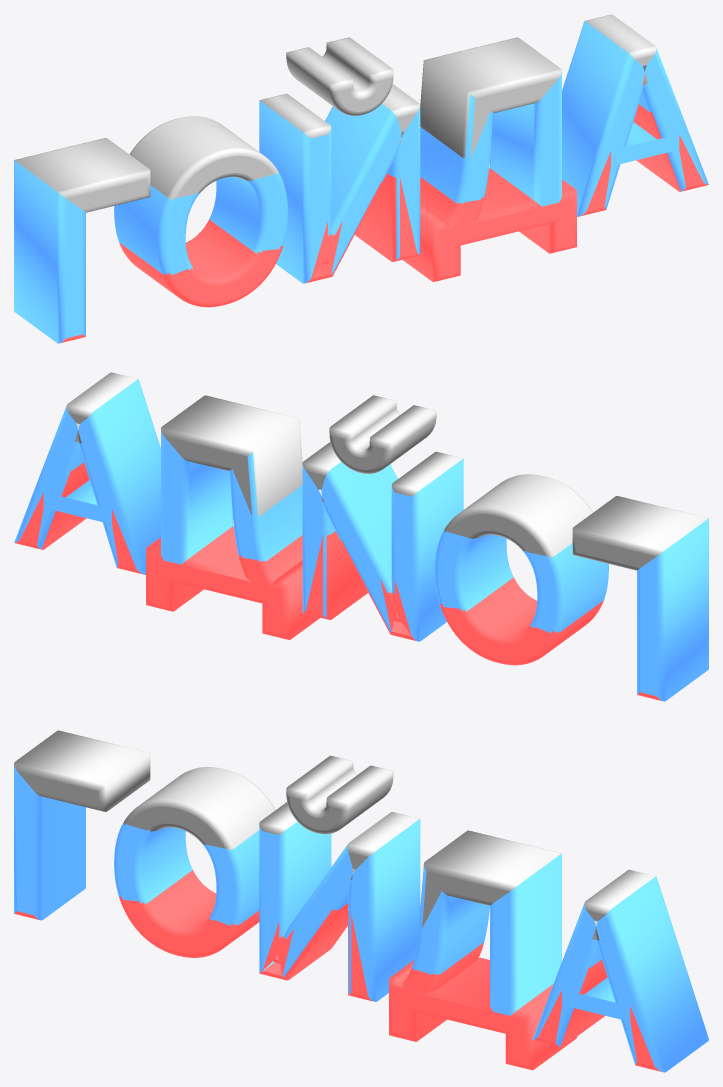
The model's file is Goyda.fbx.
3 renders of one model, top to bottom at view 1: azimuth 30°, elevation 25°; view 2: azimuth 150°, elevation 25°; view 3: azimuth 330°, elevation 25°, orthographic.
Parts seen in each view (by area): view 1: Goyda_Text; view 2: Goyda_Text; view 3: Goyda_Text.
Part boxes in pixels (bbox=[...]): Goyda_Text: bbox=[14, 14, 708, 343]; Goyda_Text: bbox=[14, 372, 708, 701]; Goyda_Text: bbox=[14, 730, 708, 1072].
Size of the model in its own units: 177 by 57.9 by 23.
